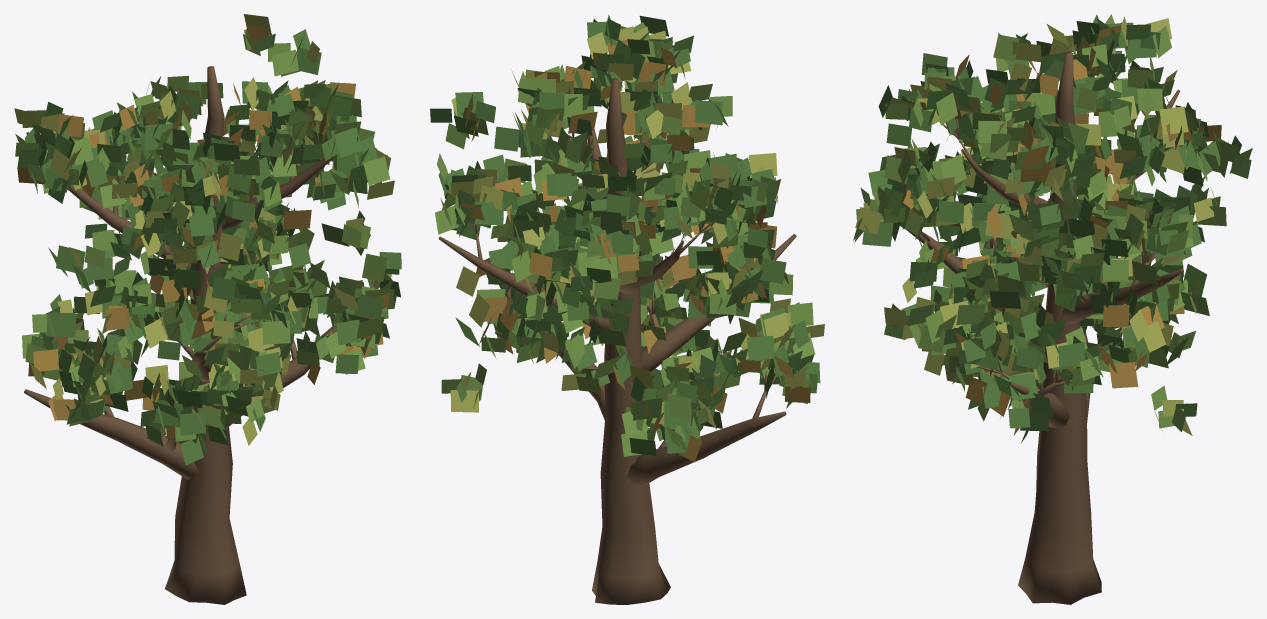
The model's file is BeyondTree_LOD0.glb.
3 views of the same model, side by side, from view 1: azimuth 30°, elevation 25°; view 2: azimuth 150°, elevation 25°; view 3: azimuth 270°, elevation 25° (orthographic). The views are drawn at different scales.
Visible parts, largest first — view 1: Leaves, Trunk, Branch_Main, Branch_Secondary; view 2: Leaves, Trunk, Branch_Main, Branch_Secondary; view 3: Leaves, Trunk, Branch_Main, Branch_Secondary.
Part boxes in pixels (<box>): Leaves: <box>14,14,401,465</box>; Trunk: <box>165,66,246,604</box>; Branch_Main: <box>24,157,336,479</box>; Branch_Secondary: <box>84,131,318,451</box>; Leaves: <box>430,14,824,462</box>; Trunk: <box>592,78,670,604</box>; Branch_Main: <box>438,129,796,487</box>; Branch_Secondary: <box>472,77,776,448</box>; Leaves: <box>853,14,1252,443</box>; Trunk: <box>1018,52,1101,604</box>; Branch_Main: <box>905,89,1183,427</box>; Branch_Secondary: <box>904,78,1160,396</box>.
Size of the model in its own units: 6.43 by 9.23 by 6.08.
